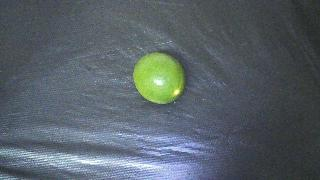LOCAL: (133, 53, 185, 104)
